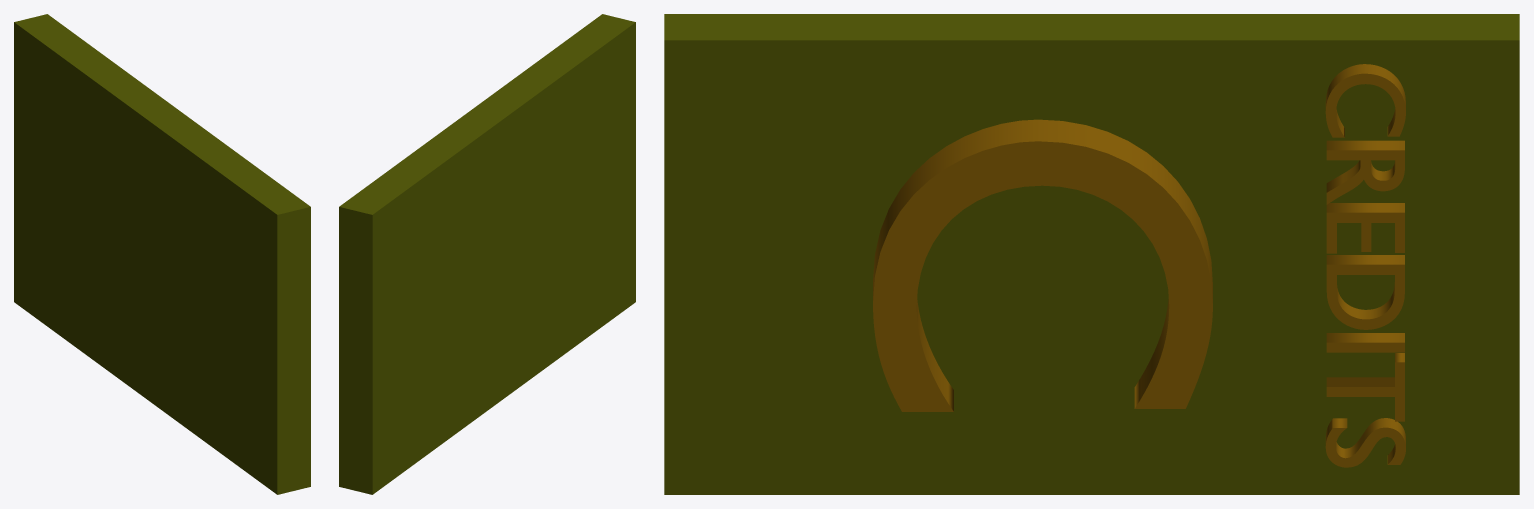
The model's file is CreditBill.fbx.
3 views of the same model, side by side, from view 1: azimuth 30°, elevation 25°; view 2: azimuth 150°, elevation 25°; view 3: azimuth 270°, elevation 25° (orthographic). The views are drawn at different scales.
Parts seen in each view (by area): view 1: Cube; view 2: Cube; view 3: Cube, Text.001, Text.
Boxes of the visible parts, x1,y1,x2,y2 form: Cube: [14, 14, 310, 494]; Cube: [339, 14, 635, 494]; Cube: [664, 14, 1519, 494]; Text.001: [873, 119, 1212, 411]; Text: [1325, 64, 1405, 467].
Bounding box in the file's own units: 58.09 × 255 × 436.
